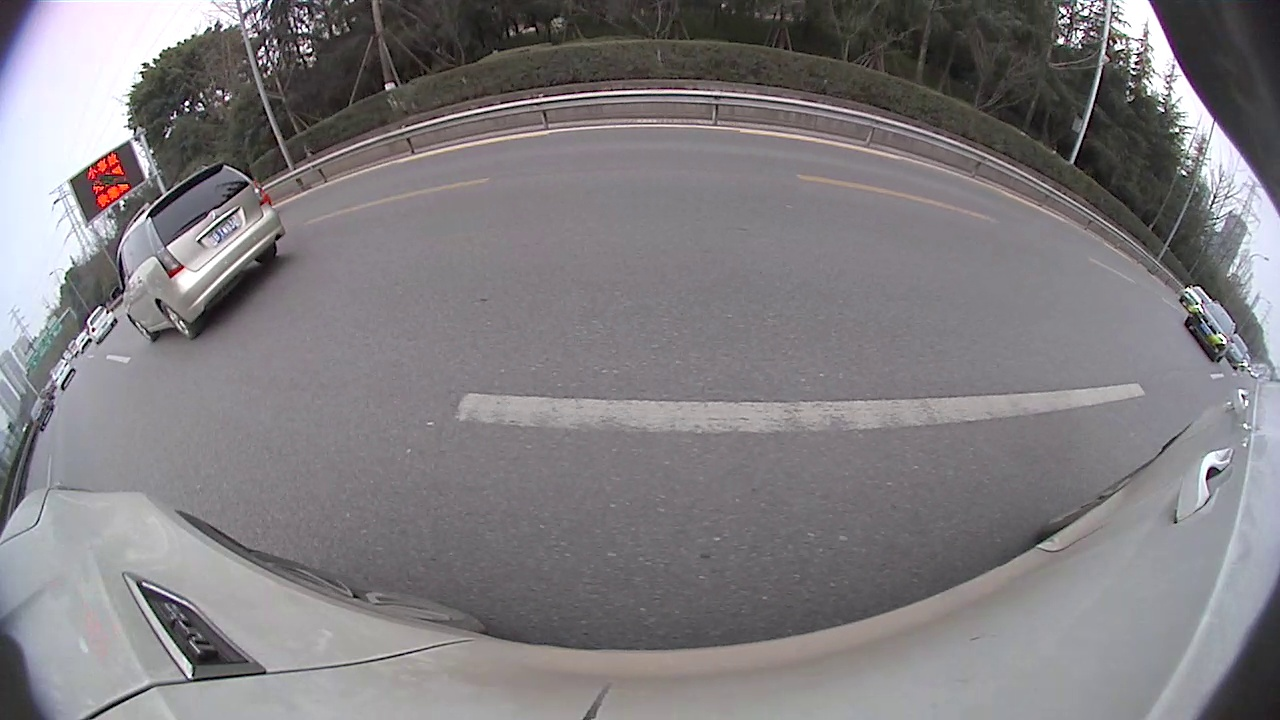car: (108, 160, 287, 344), (1183, 299, 1237, 364), (84, 304, 118, 345), (1178, 283, 1213, 316), (1224, 332, 1251, 371), (29, 394, 56, 432), (49, 357, 77, 393)
front: (130, 318, 156, 342)
rear: (160, 301, 196, 340)
